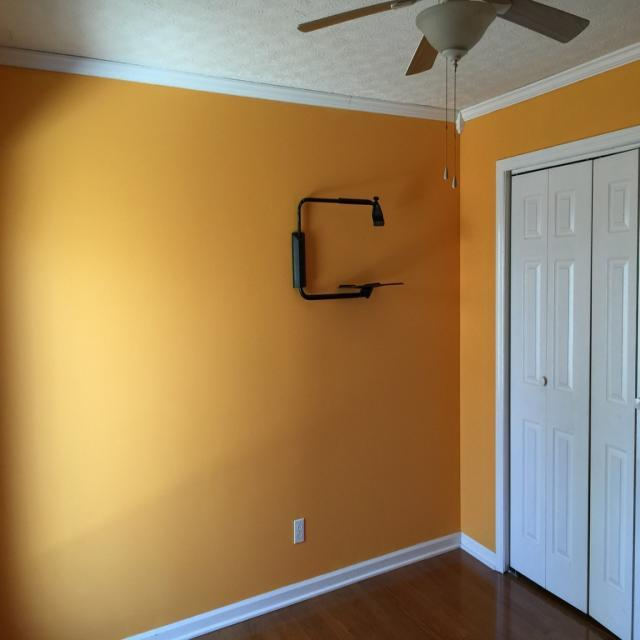fan_off: (301, 0, 593, 81)
